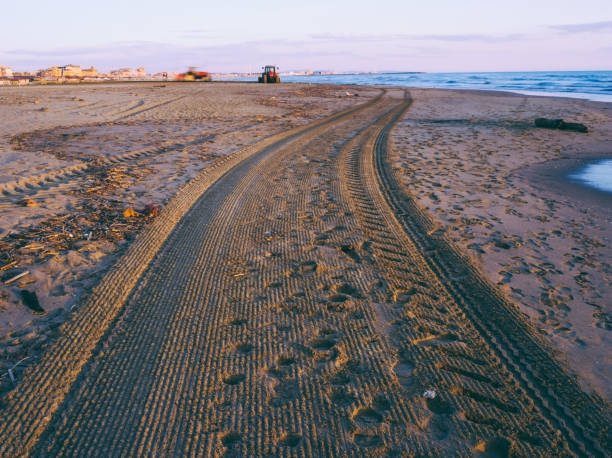vehicle_track: (0, 90, 585, 455), (0, 96, 380, 455), (366, 122, 610, 455)
